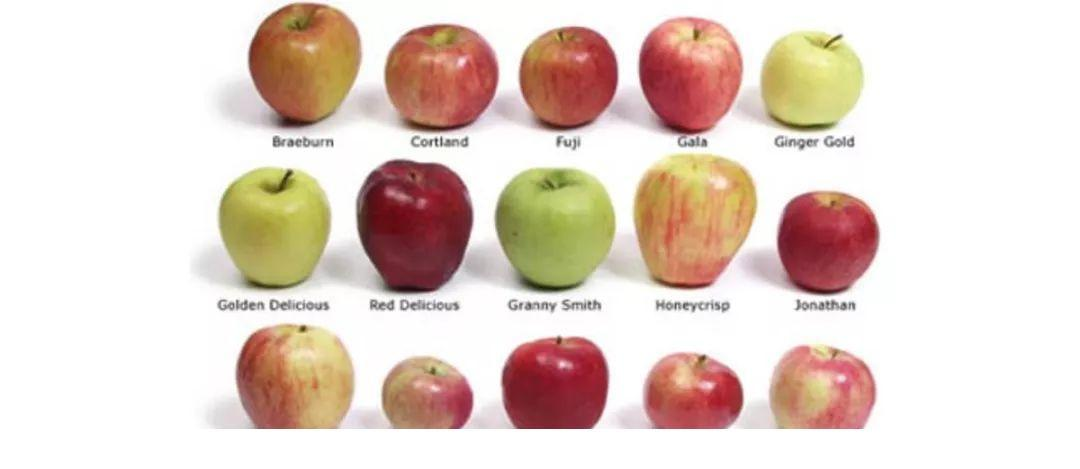apple: (632, 151, 758, 286), (353, 158, 474, 291), (495, 166, 617, 288), (217, 163, 330, 287), (248, 2, 362, 120), (236, 322, 355, 430), (640, 15, 743, 131), (384, 24, 499, 127), (775, 187, 881, 291), (501, 334, 609, 430), (761, 29, 863, 128), (521, 25, 619, 125), (770, 342, 876, 430), (642, 348, 742, 430), (382, 355, 472, 430)
